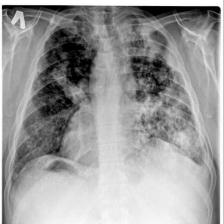tuberculosis: (6, 11, 206, 224)
